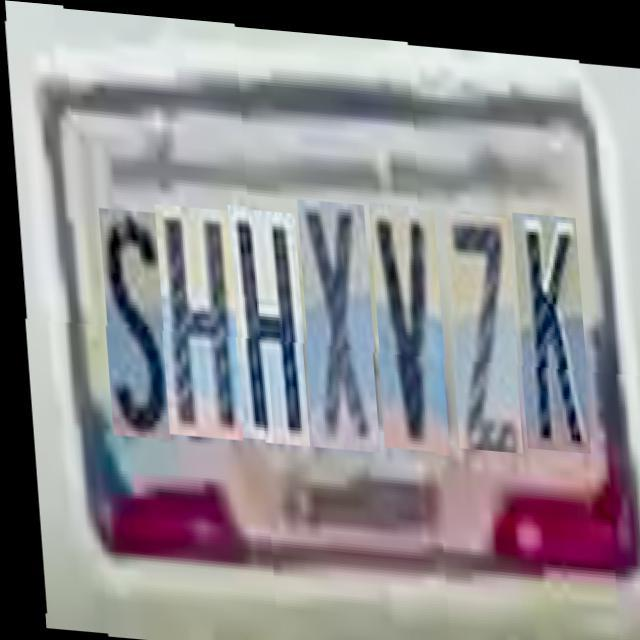H: (150, 202, 237, 436), (223, 200, 303, 438)
K: (508, 197, 584, 437)
S: (94, 207, 167, 438)
V: (364, 192, 443, 442)
X: (292, 191, 373, 443)
Z: (439, 198, 516, 438)
